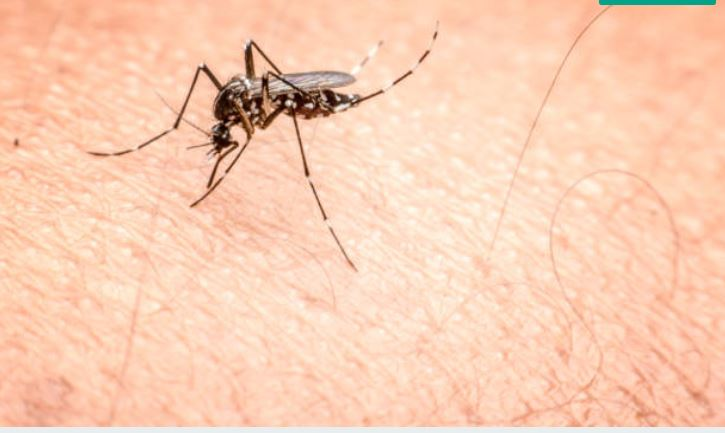dengue_mosquito: (85, 38, 400, 209)
